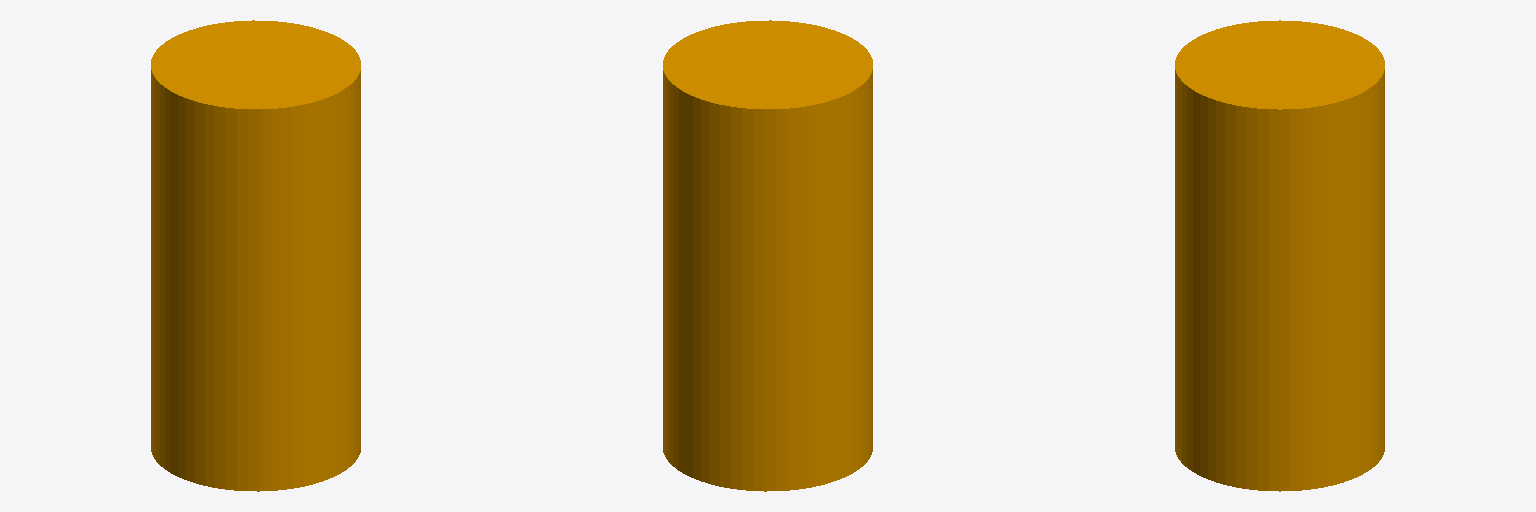
The robot description file, URDF, robot "peg_cylinder":
<?xml version="1.0"?>
<robot name="peg_cylinder">
    <link name="peg_cylinder">
        <visual>
            <geometry>
                <mesh filename="../mesh/vitascope_pegs/peg_cylinder.obj"/>
            </geometry>
        </visual>
        <collision>
            <geometry>
                <mesh filename="../mesh/vitascope_pegs/peg_cylinder.obj"/>
            </geometry>
            <sdf resolution="256"/>
        </collision>
    </link>
</robot>

--- What the picture shows (computed from the rendered views, not written in the file) ---
Views: 3 orthographic renders of the robot side by side, from view 1: azimuth 30°, elevation 25°; view 2: azimuth 150°, elevation 25°; view 3: azimuth 270°, elevation 25°.
Model peg_cylinder with 1 links and 0 joints (none), rooted at peg_cylinder, posed every joint at zero.
Links seen in each view (by area): view 1: peg_cylinder; view 2: peg_cylinder; view 3: peg_cylinder.
Boxes of the visible links, x1,y1,x2,y2 form: peg_cylinder: (151,20,360,491); peg_cylinder: (663,20,872,491); peg_cylinder: (1175,20,1384,491).
Bounding box of the posed robot: 0.04 × 0.0399 × 0.08 m (x, y, z).
1 mesh visuals loaded from 1 distinct referenced files (1 OBJ).
